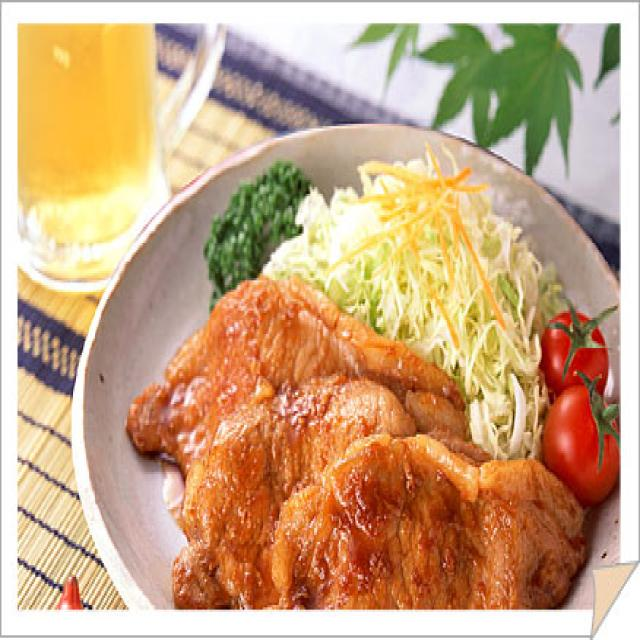猪肉菜式: (137, 177, 573, 591)
